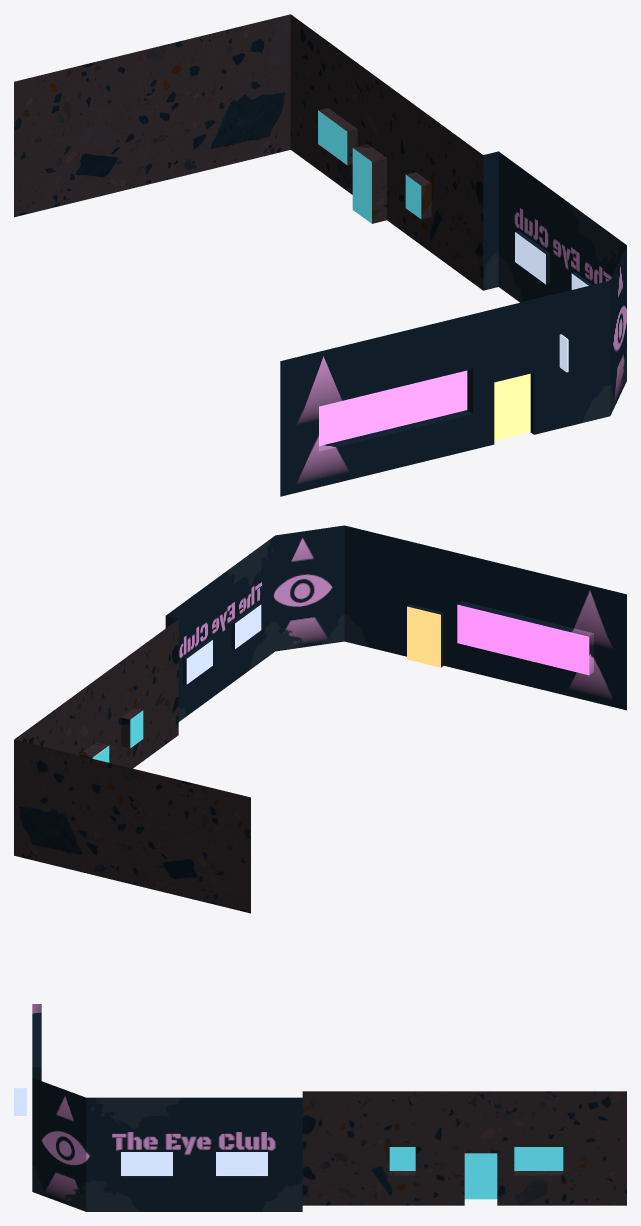
3 views of the same model, one above another, from view 1: azimuth 30°, elevation 25°; view 2: azimuth 150°, elevation 25°; view 3: azimuth 270°, elevation 25° (orthographic). The views are drawn at different scales.
Parts seen in each view (by area): view 1: buildings_tile_Ca, luces_tile_Ca; view 2: buildings_tile_Ca, luces_tile_Ca; view 3: buildings_tile_Ca, luces_tile_Ca.
Boxes of the visible parts, left/top/right/bottom form: buildings_tile_Ca: left=14, top=14, right=626, bottom=496; luces_tile_Ca: left=318, top=110, right=588, bottom=445; buildings_tile_Ca: left=14, top=525, right=626, bottom=913; luces_tile_Ca: left=92, top=604, right=589, bottom=762; buildings_tile_Ca: left=32, top=1004, right=626, bottom=1211; luces_tile_Ca: left=14, top=1087, right=563, bottom=1199.
Size of the model in its own units: 17.09 by 5.85 by 28.45.
